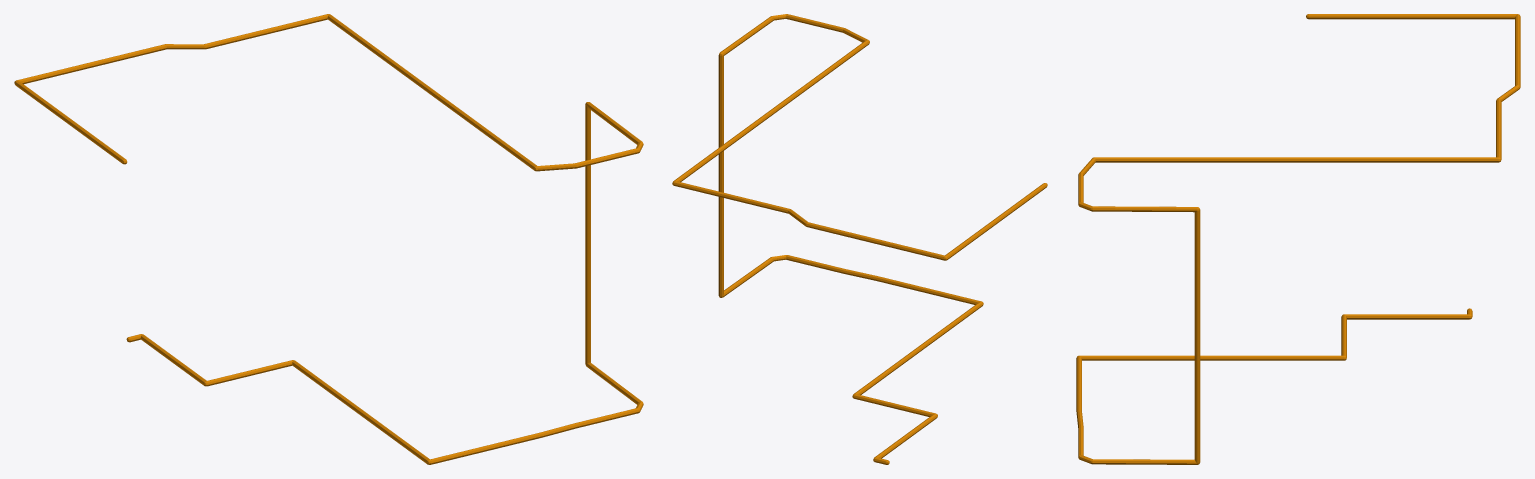
The picture shows the model from 3 angles, left to right: view 1: azimuth 30°, elevation 25°; view 2: azimuth 150°, elevation 25°; view 3: azimuth 270°, elevation 25°; orthographic projection. The views are drawn at different scales.
Size of the model in its own units: 1657 by 1020 by 1592.
